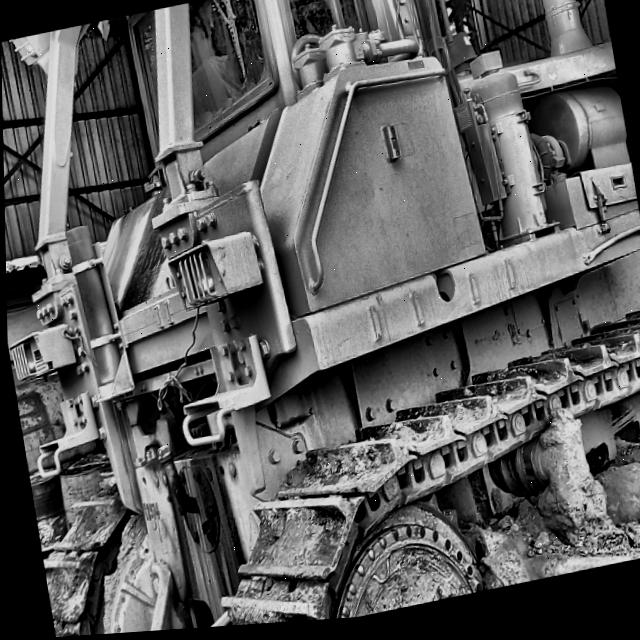buldozerpayloadergrader: (9, 0, 640, 638)
